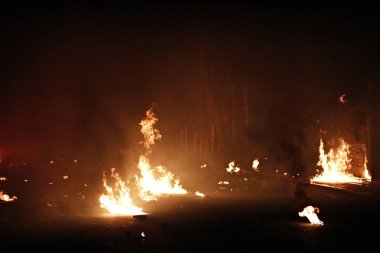fire: (136, 109, 182, 201), (310, 128, 360, 190), (95, 162, 136, 216), (299, 198, 324, 226), (226, 158, 242, 177), (250, 156, 262, 174), (195, 186, 207, 202), (1, 189, 16, 201)
